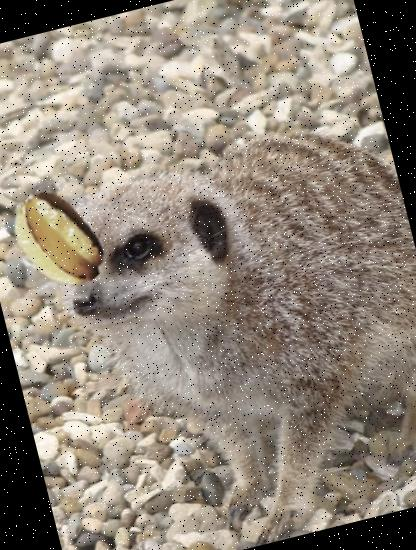Carambula: (0, 178, 121, 304)
